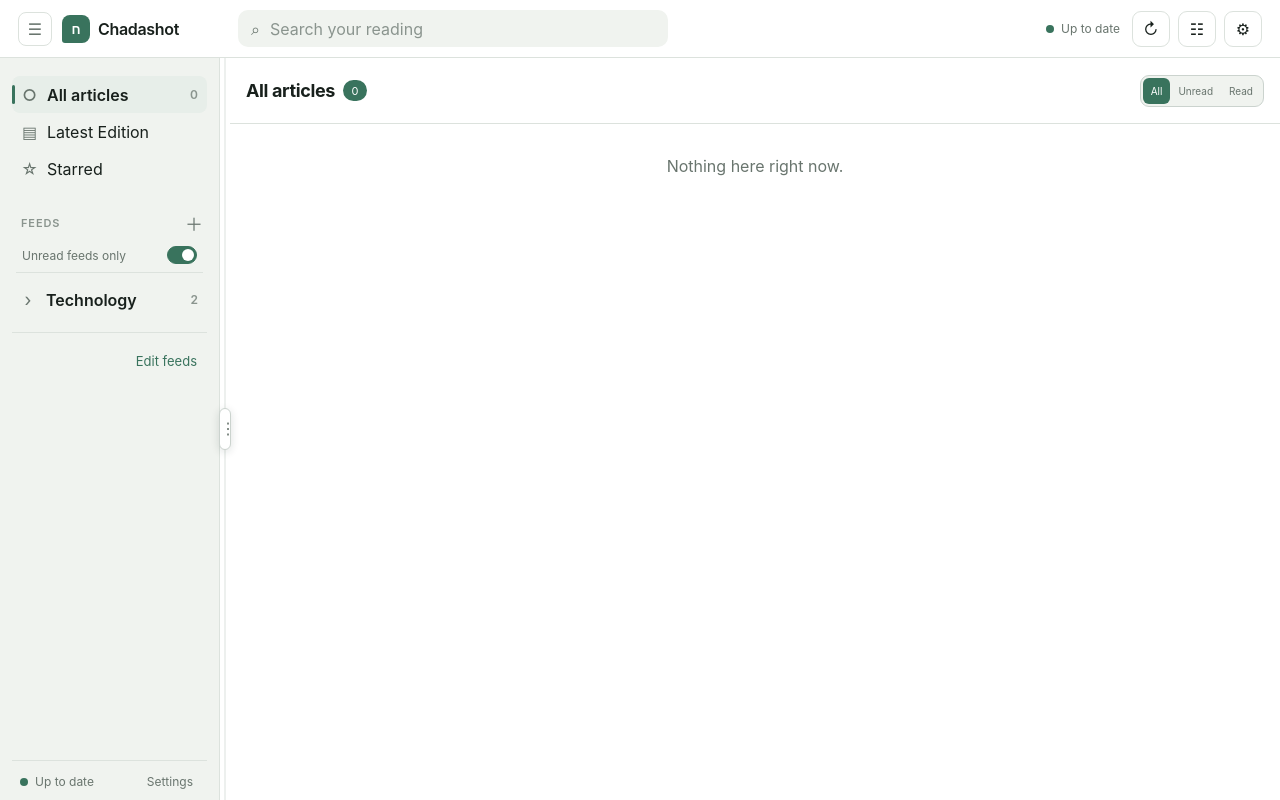
Test: responsive feeds navigation › keeps removal controls in edit mode and includes read feeds (compact: false)
Expected: the button named "Collapse navigation sidebar" is shown, [18, 12, 52, 46]
Expected: the button "Remove" is not shown
Click the button "Edit feeds" at (166, 361), box [126, 339, 207, 383]
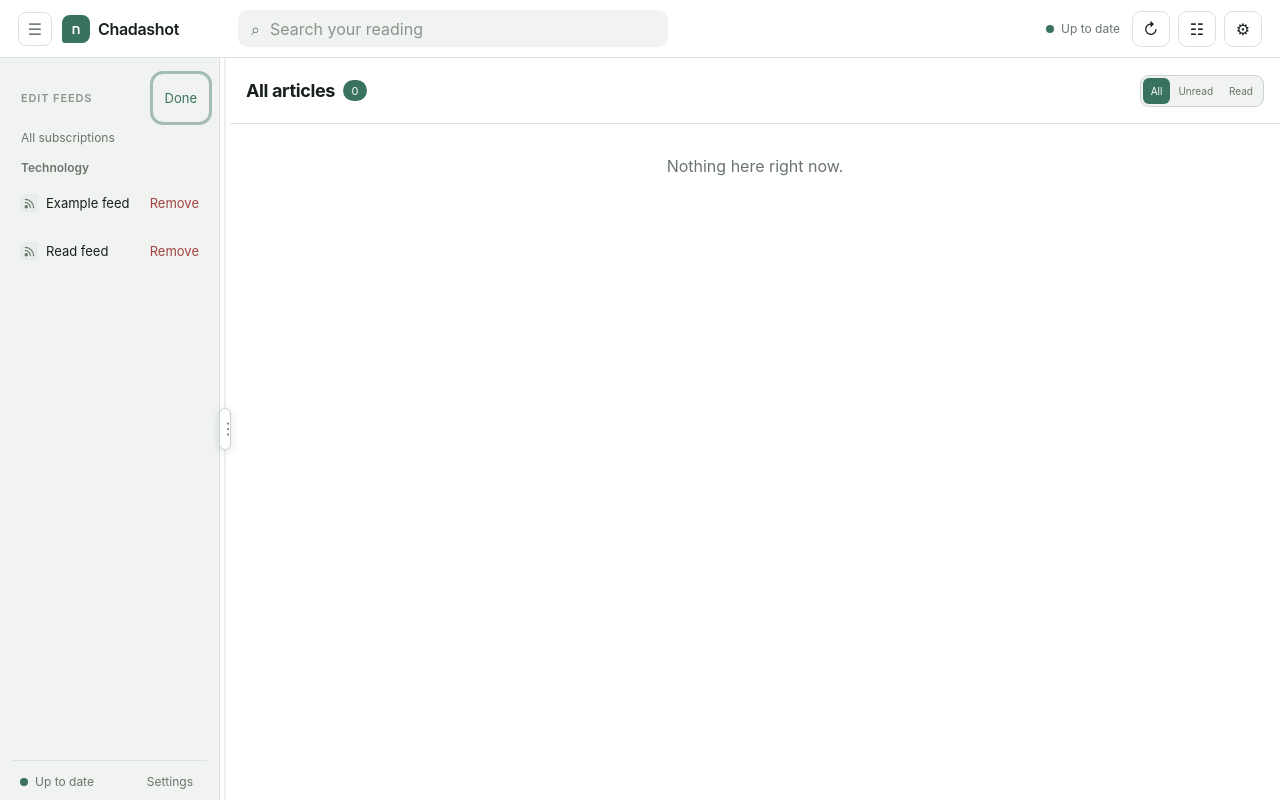
Now the button with aria-label "Remove Read feed" is shown
Click the button with aria-label "Remove Read feed" at (174, 251), box [142, 229, 207, 273]
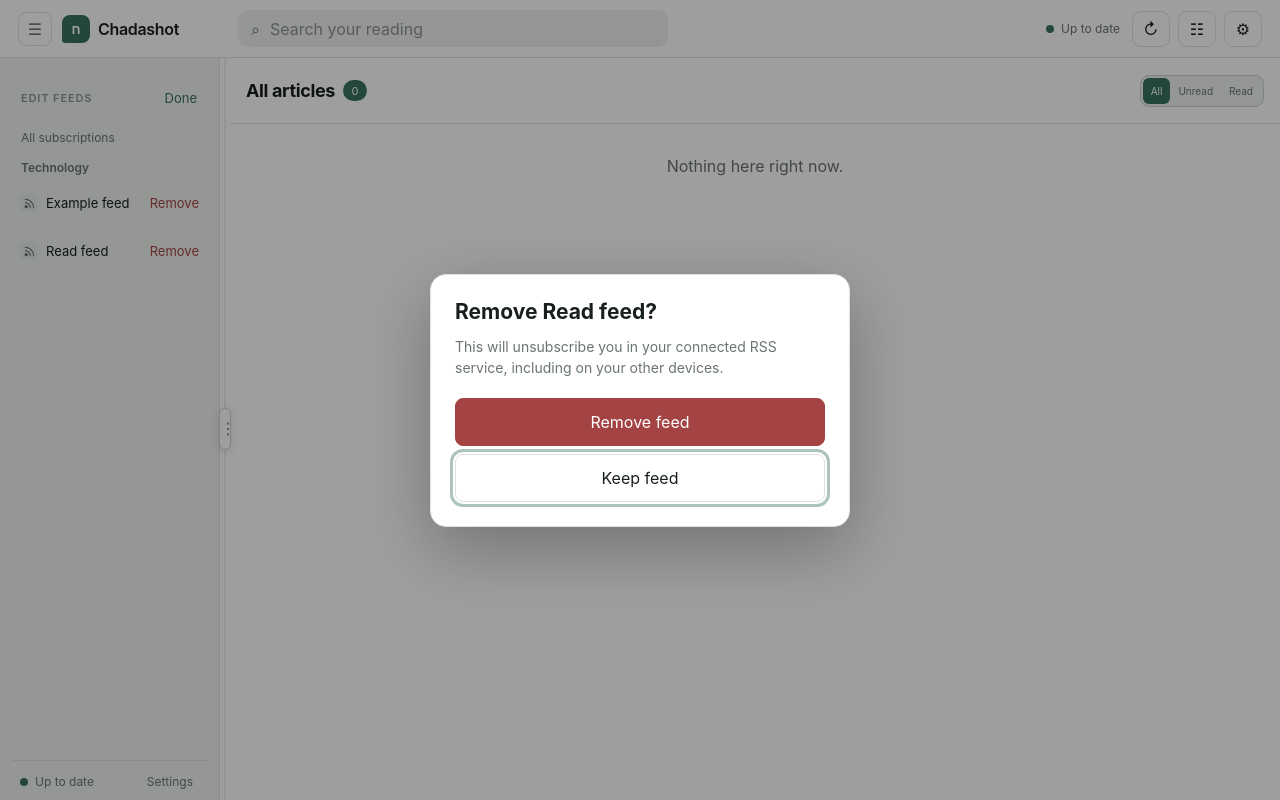
Press Tab in the dialog "Remove Read feed?", box [430, 274, 850, 526]
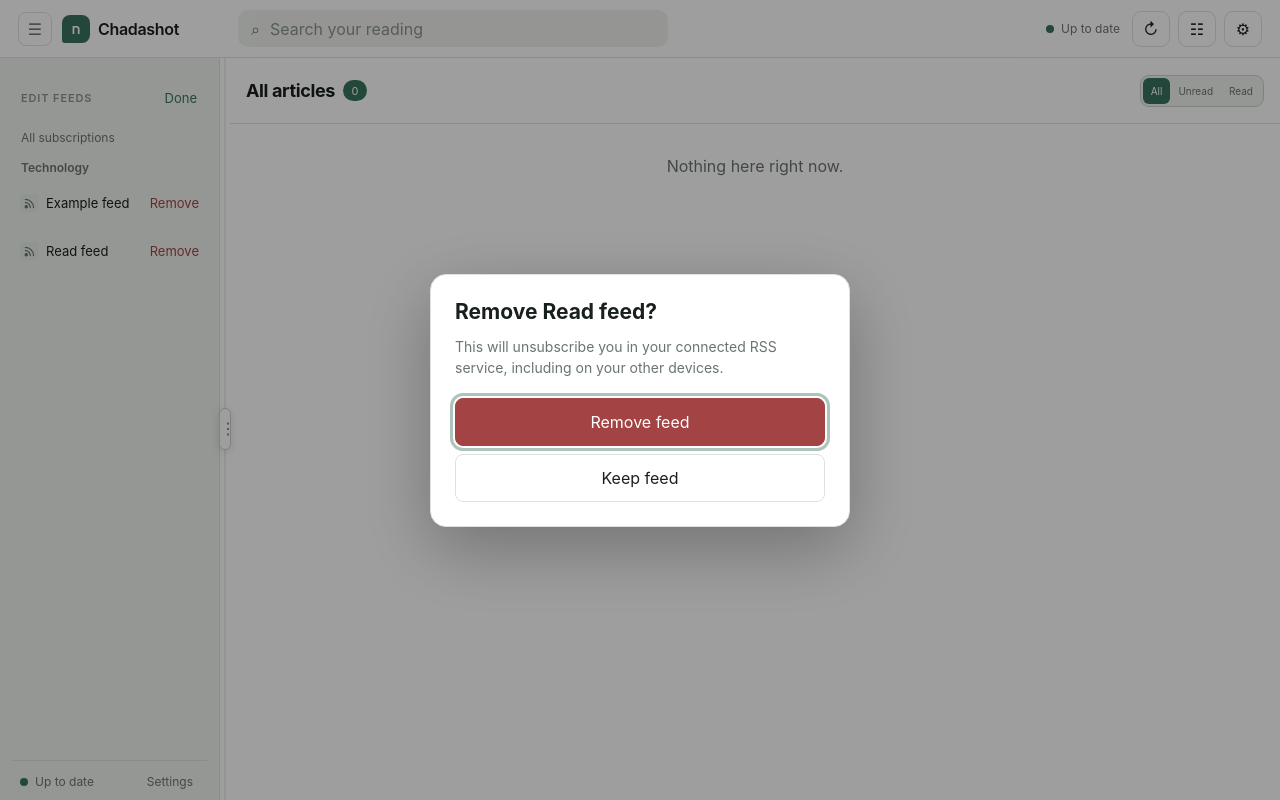
Press Escape in the dialog "Remove Read feed?", box [430, 274, 850, 526]
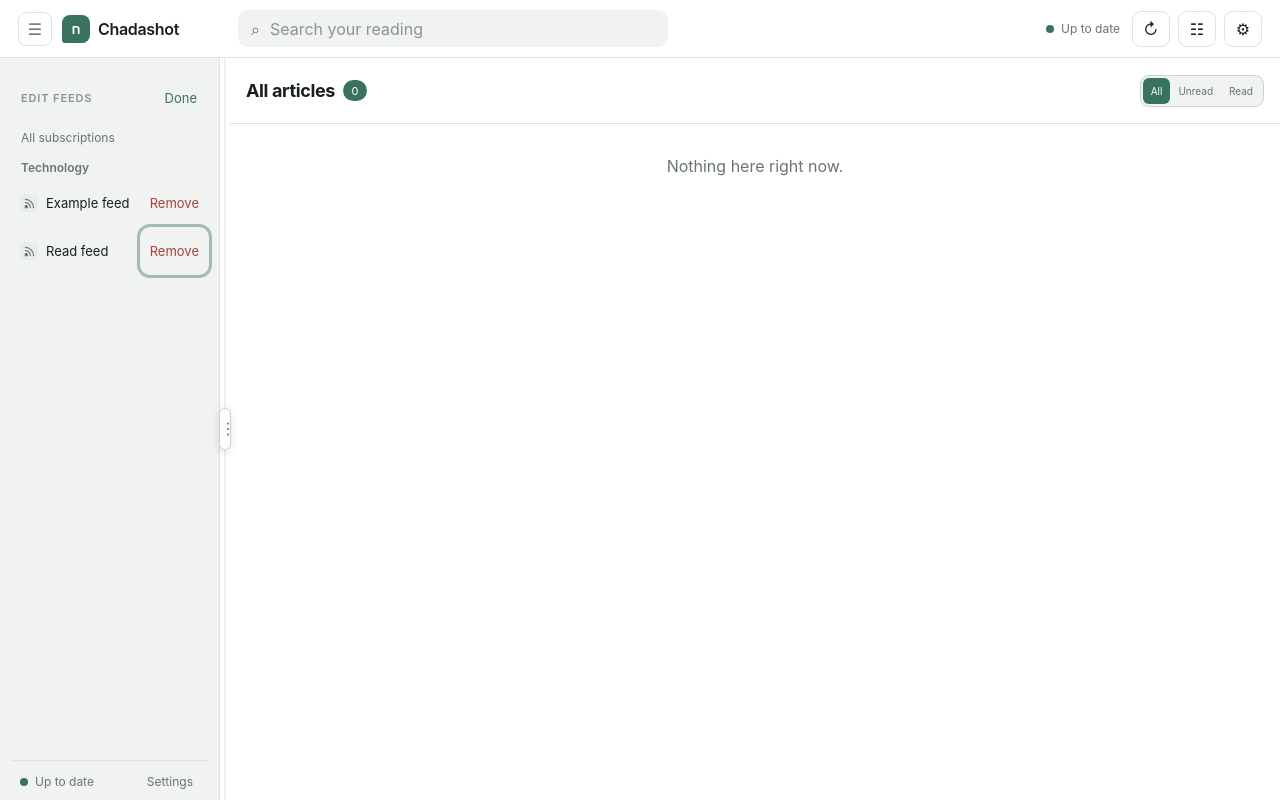
Click the button "Done" at (181, 98), box [155, 76, 207, 120]
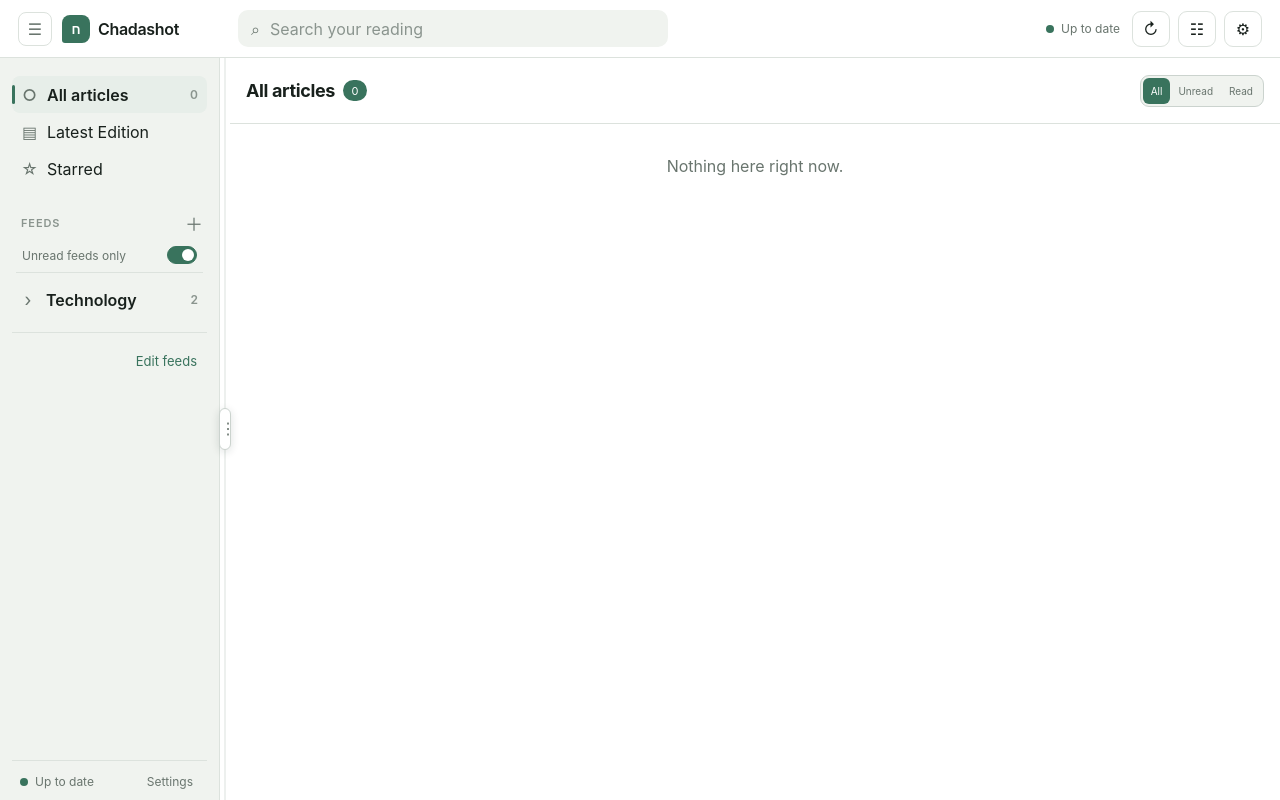
Now the switch labelled "Unread feeds only" is checked, box [16, 239, 203, 273]
Now the button "Remove" is gone
